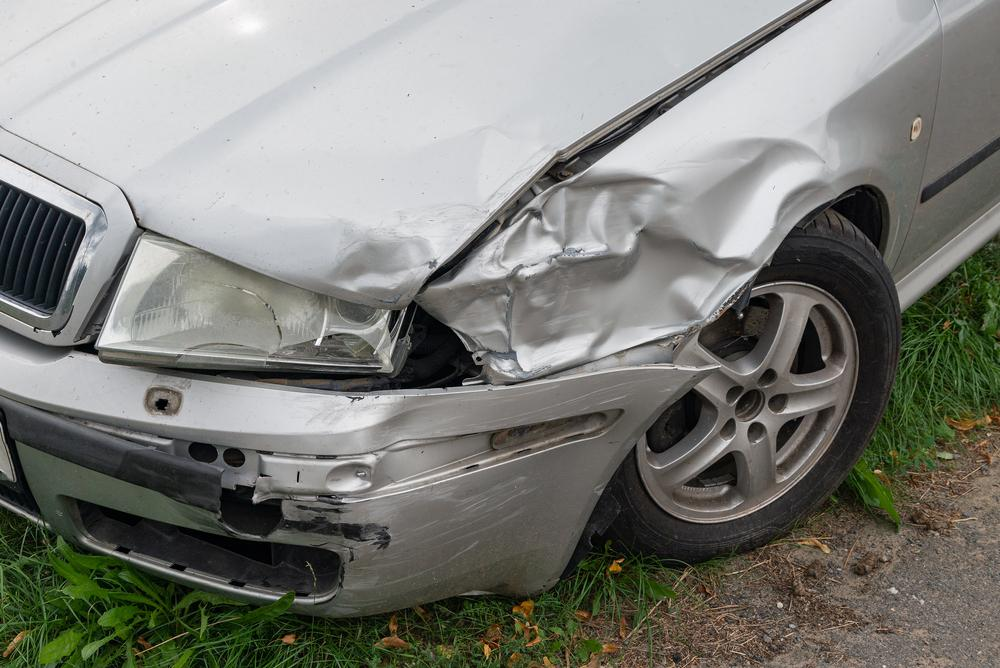dent: (429, 134, 833, 378), (270, 107, 565, 287), (372, 399, 439, 474)
lamp broken: (91, 233, 421, 377)
scratch: (280, 472, 540, 600)
